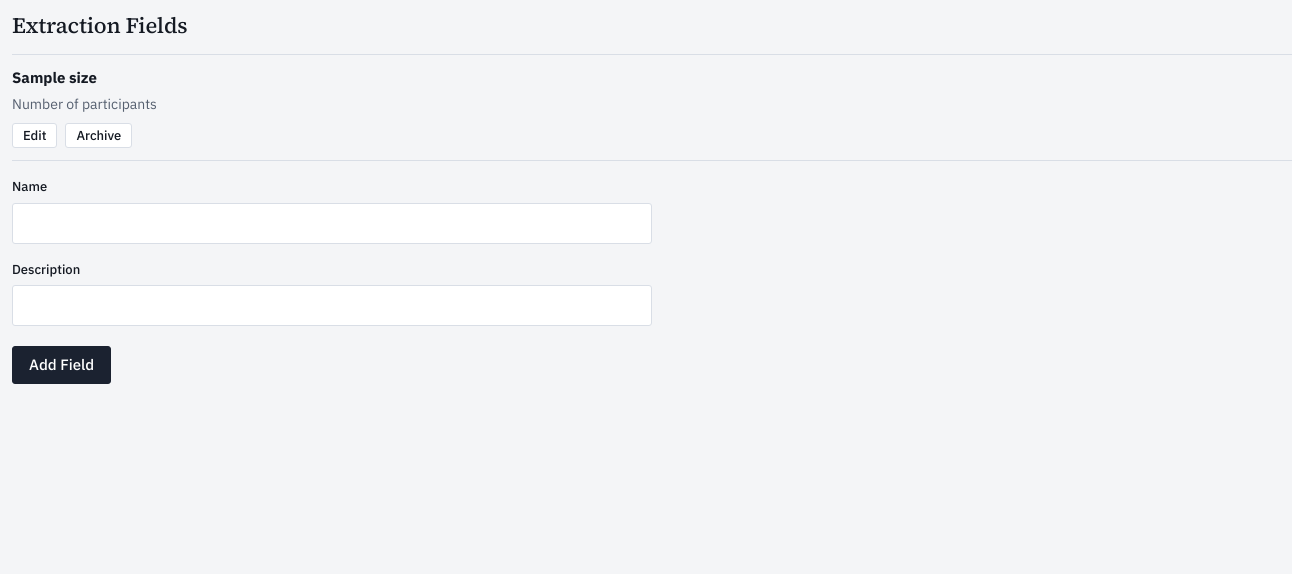
Test: ExtractionFieldsPanel › shows the backend's message when a rename collides, and keeps the edit form open
Click the button "Edit".
click(35, 136)  # box [12,123,58,148]
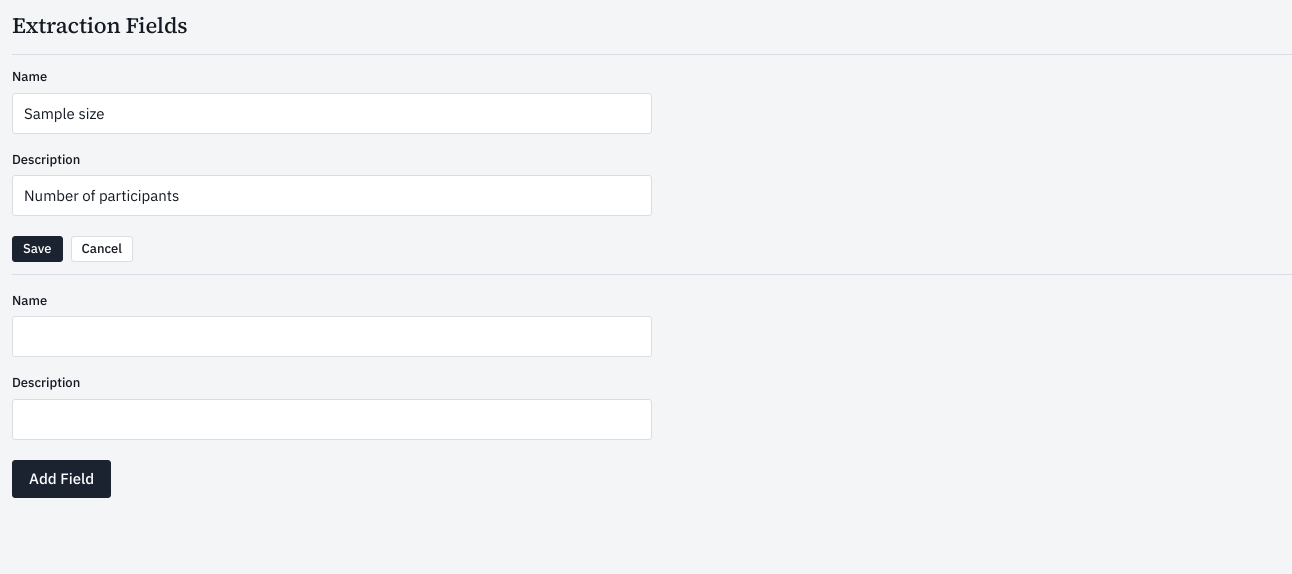
Replace the text in the 1st field showing "Sample size" with "Follow-up" at (332, 113), box [12,93,652,134]
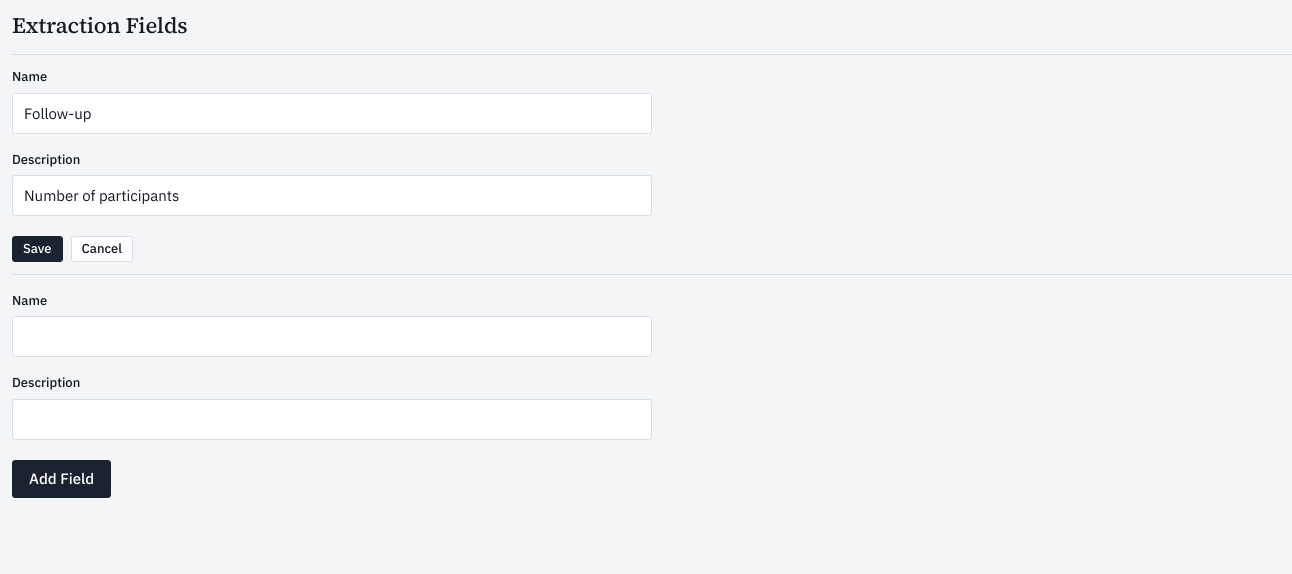
Click the button "Save".
click(37, 249)  # box [12,236,63,262]
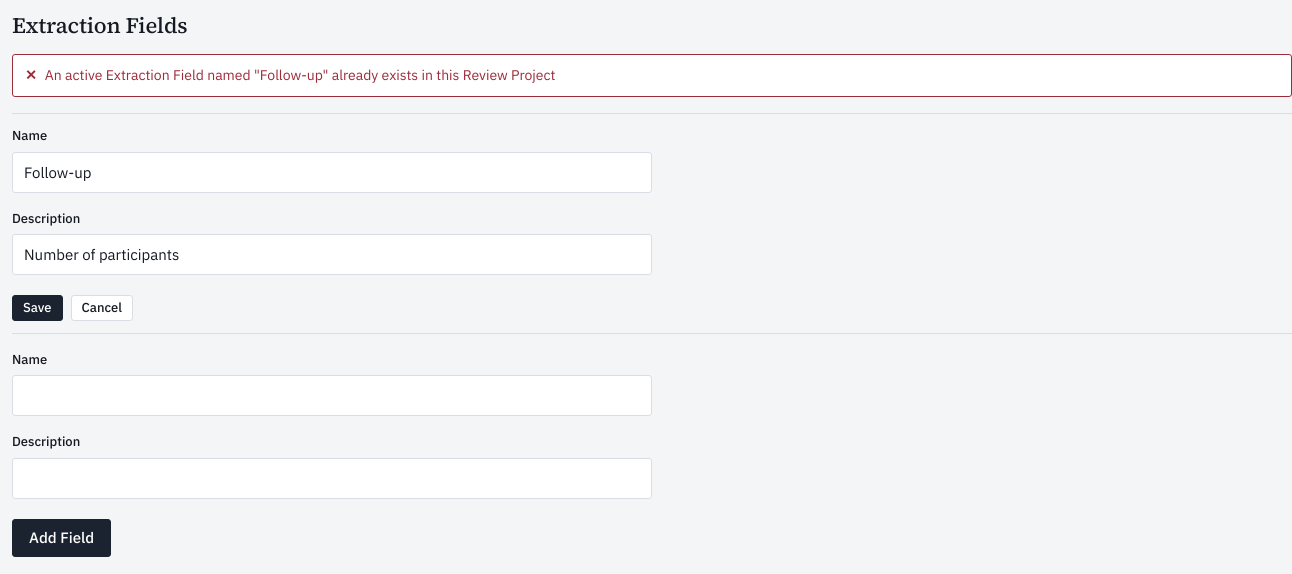
Result: the message shows "An active Extraction Field named \"Follow-up\" already exists in this Review Project" at [45,66,556,84]
